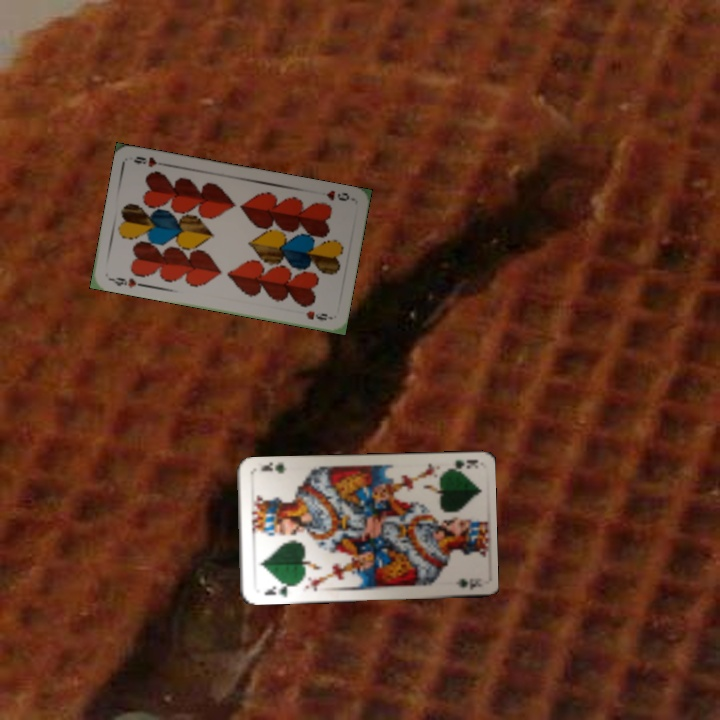GK: (439, 455, 479, 474), (260, 580, 293, 599)
H9: (106, 273, 139, 291), (322, 186, 352, 204)
